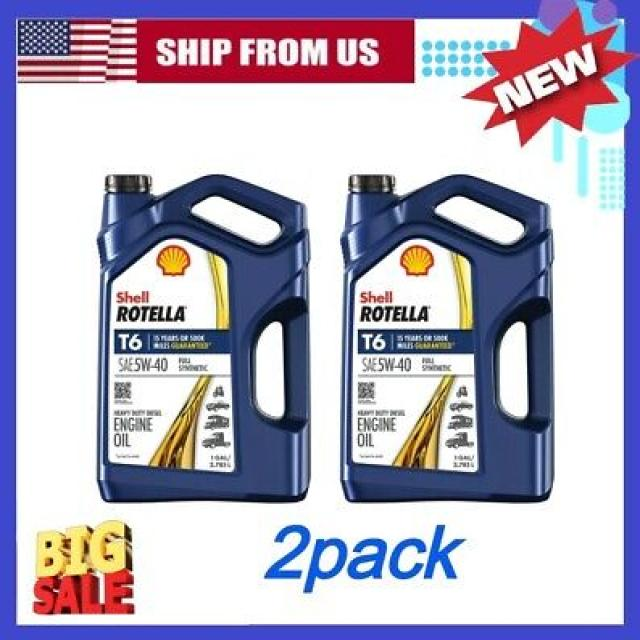motor_oil: (334, 163, 564, 509), (87, 166, 314, 506)
